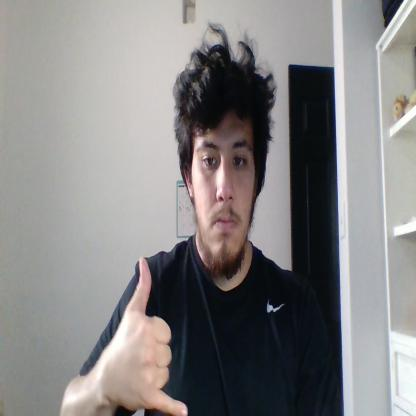Y: (112, 257, 188, 416)
